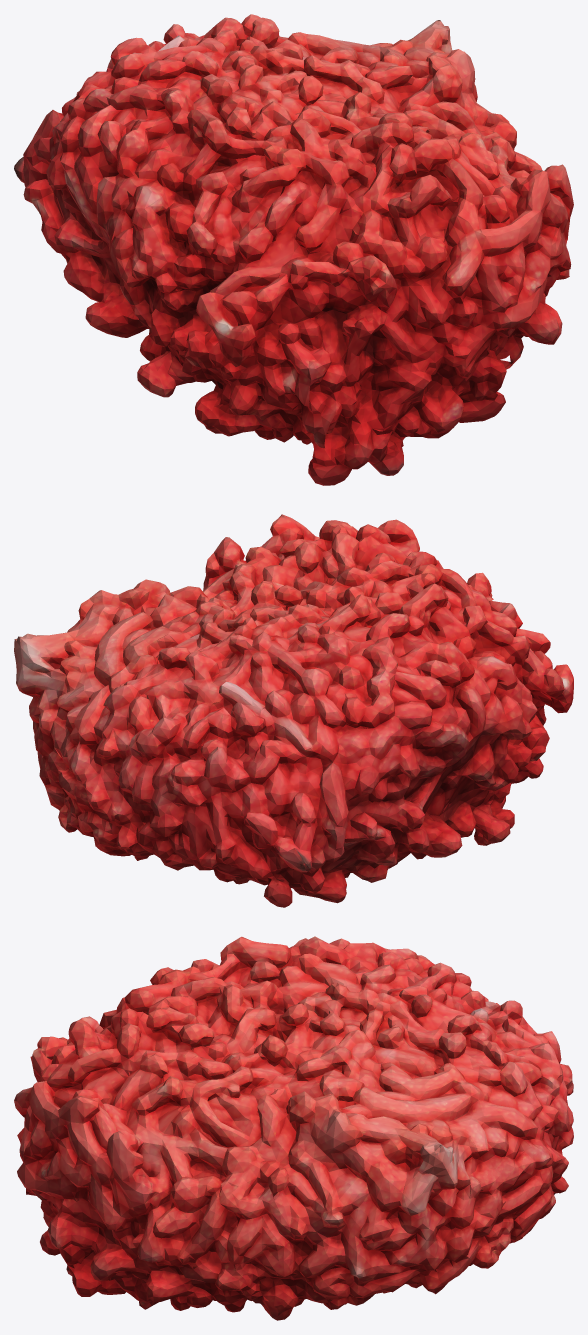
File: groundbeef.glb
3 views of the same model, one above another, from view 1: azimuth 30°, elevation 25°; view 2: azimuth 150°, elevation 25°; view 3: azimuth 270°, elevation 25° (orthographic). The views are drawn at different scales.
Parts seen in each view (by area): view 1: world; view 2: world; view 3: world.
Boxes of the visible parts, box(x1,y1,x2,y2) form: world: box(14, 14, 573, 485); world: box(14, 514, 573, 907); world: box(14, 936, 573, 1320).
Bounding box in the file's own units: 0.854 × 0.5892 × 0.9909.
1 material, 1 textured.
